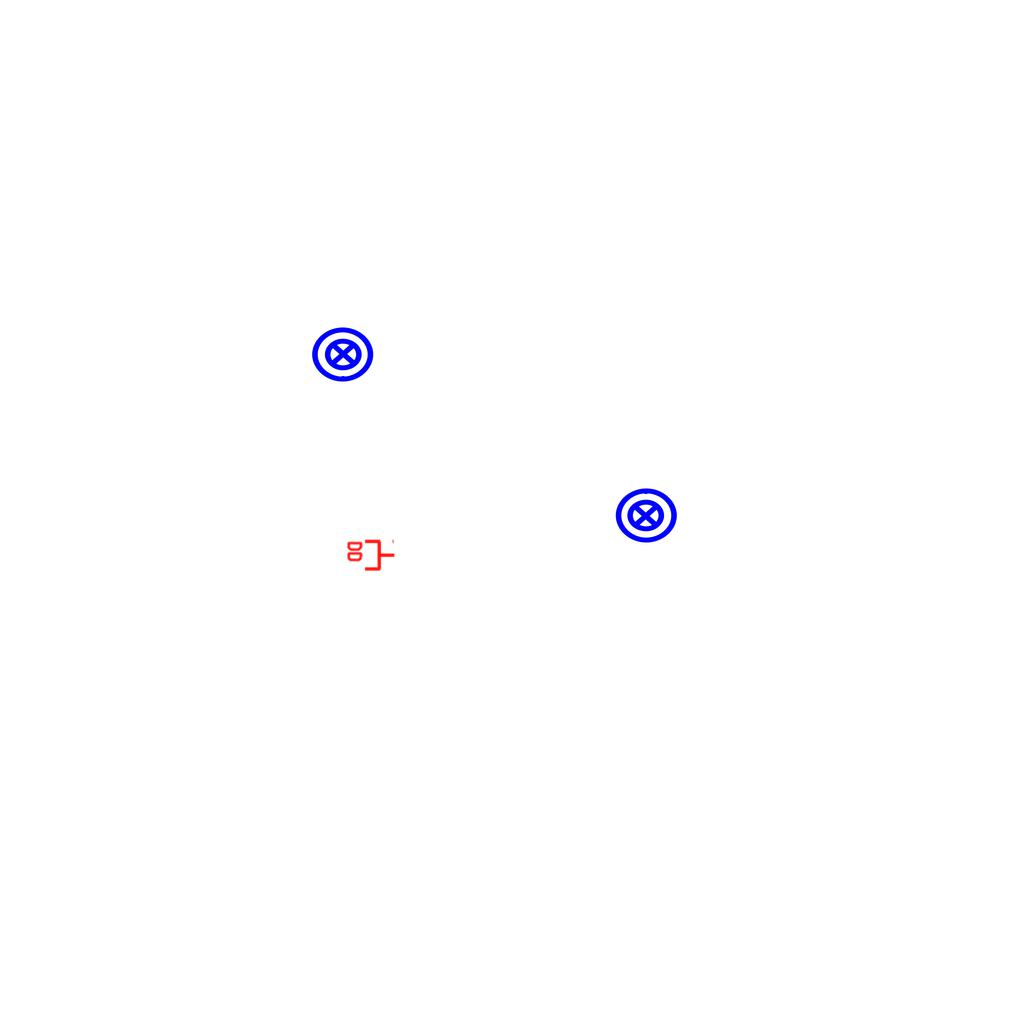Datenanschluss_zweifach: (345, 539, 396, 573)
Taster_beleuchtet: (613, 483, 679, 549), (310, 321, 376, 387)
